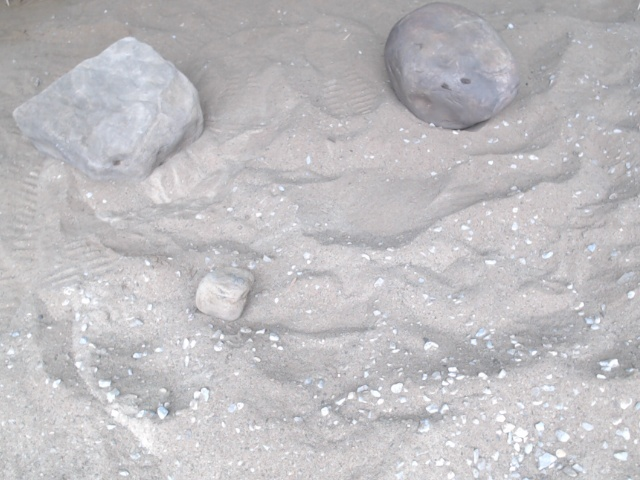rock: (8, 32, 210, 190), (378, 2, 526, 136), (190, 262, 259, 326)
